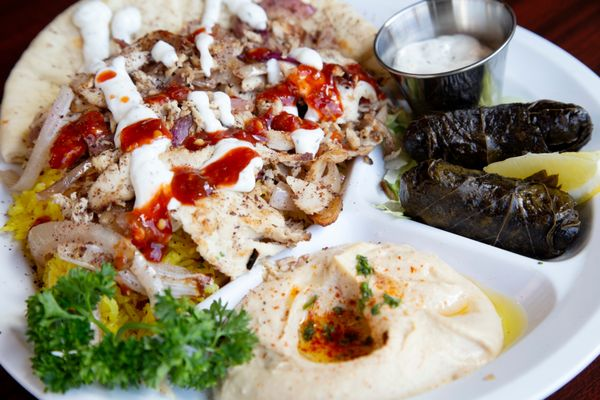curry: (25, 259, 260, 394)
pizza: (373, 0, 517, 117)
sushi: (372, 0, 518, 117)
